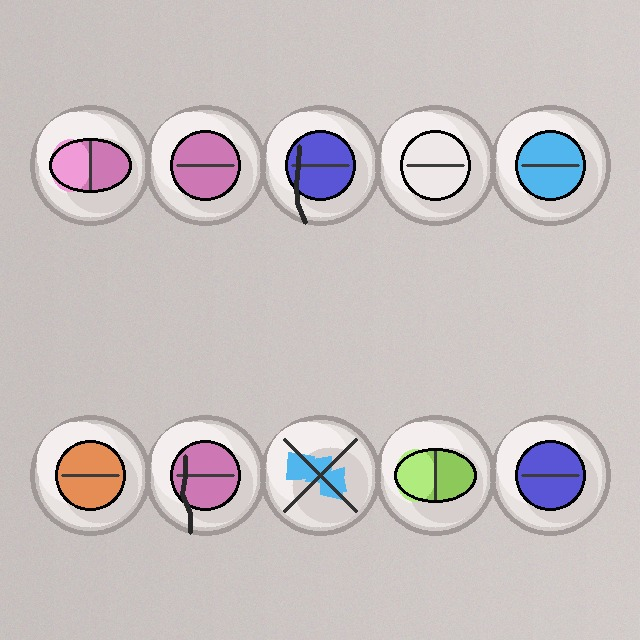broken: (258, 413, 382, 537)
crack: (258, 103, 382, 227), (143, 413, 267, 537)
